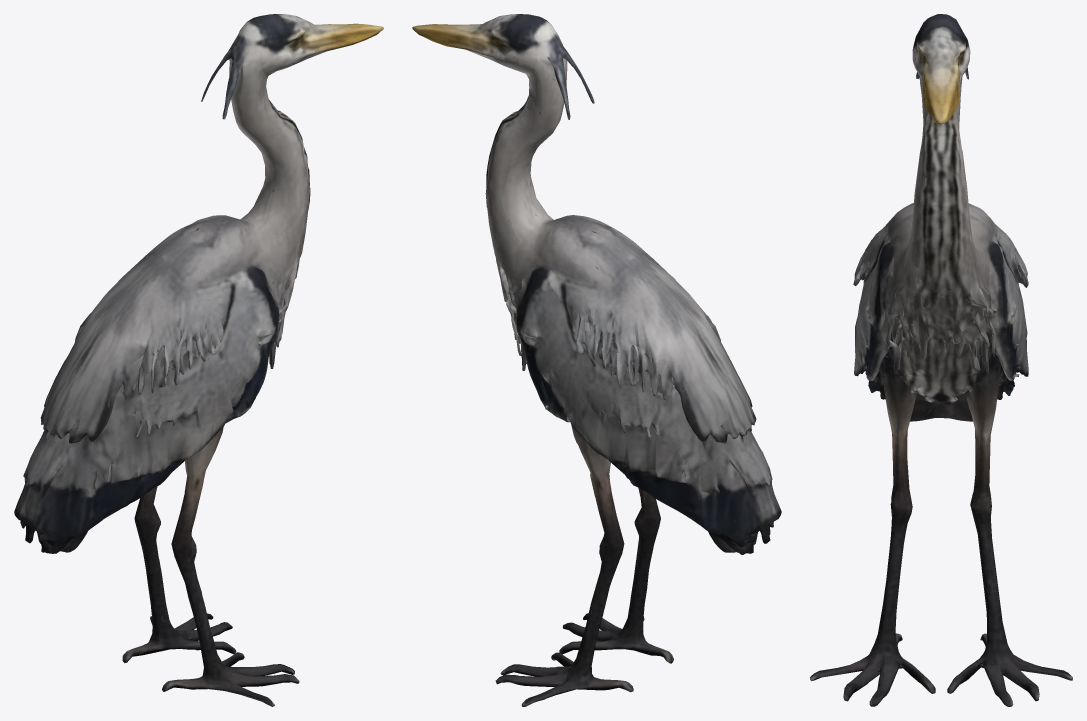
File: grey-heron-v21-lod.glb
3 renders of one model, left to right at view 1: azimuth 30°, elevation 25°; view 2: azimuth 150°, elevation 25°; view 3: azimuth 270°, elevation 25°, orthographic. The views are drawn at different scales.
Parts seen in each view (by area): view 1: geometry_0; view 2: geometry_0; view 3: geometry_0.
Part boxes in pixels (bbox=[...]): geometry_0: bbox=[14, 14, 383, 706]; geometry_0: bbox=[412, 14, 781, 706]; geometry_0: bbox=[810, 14, 1072, 706].
Size of the model in its own units: 0.6032 by 0.9992 by 0.3449.
Materials: 1 (1 with a texture image).
